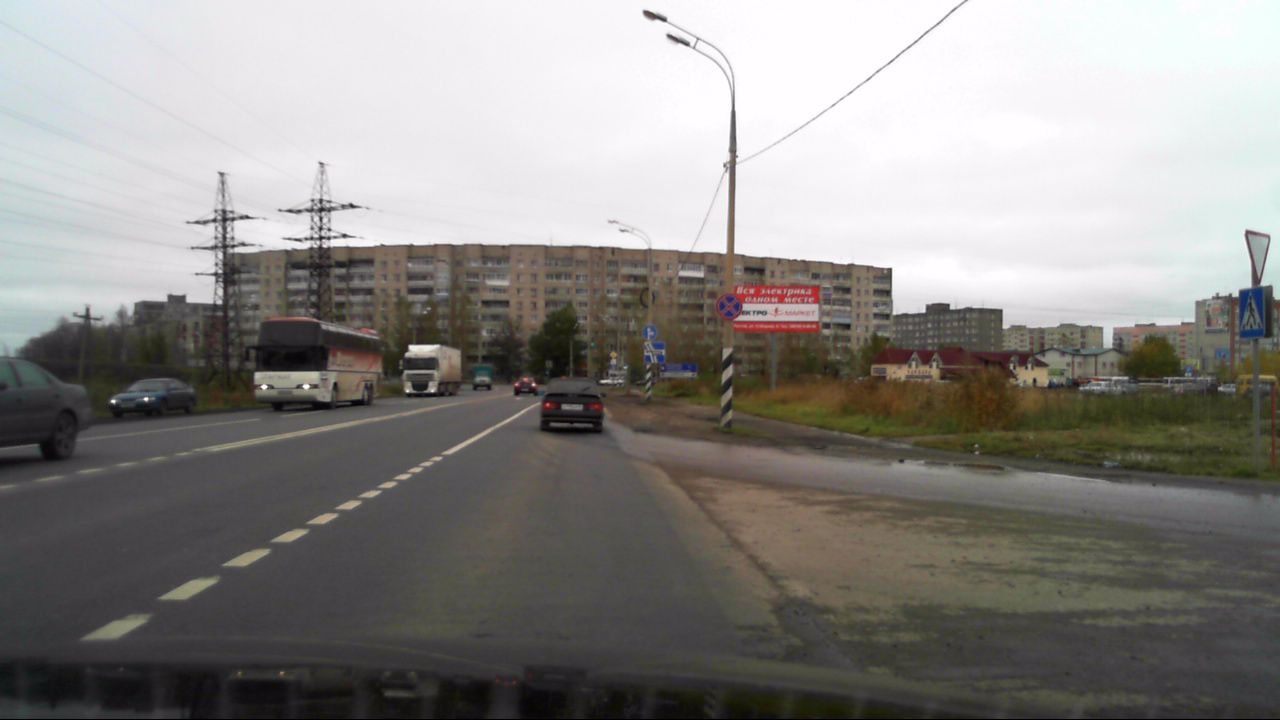No Parking: (716, 292, 741, 321)
